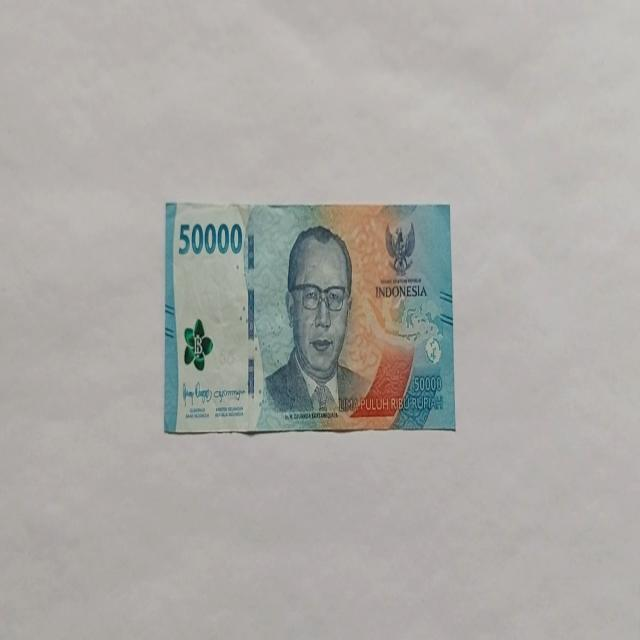lima puluh ribu rupiah: (162, 199, 456, 436), (258, 223, 370, 425)
